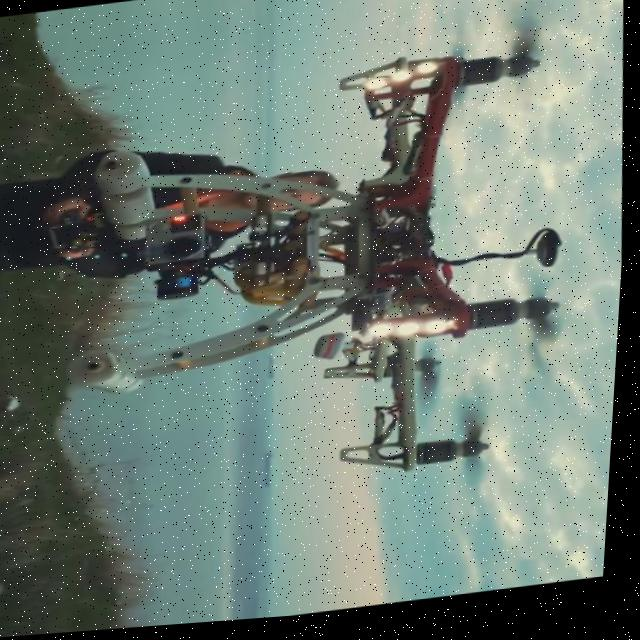drones: (45, 0, 634, 588)
